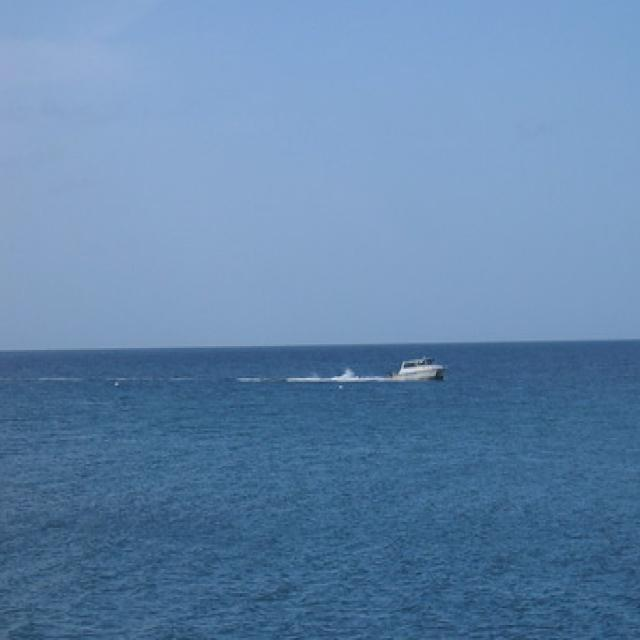houseboat: (385, 348, 452, 384)
